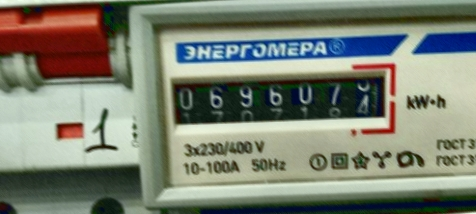0: (176, 85, 194, 110), (296, 79, 312, 104)
4: (354, 92, 371, 116)
6: (206, 84, 224, 109), (266, 81, 284, 105)
7: (326, 80, 342, 106)
9: (236, 83, 253, 108)
screen: (157, 56, 401, 138)
